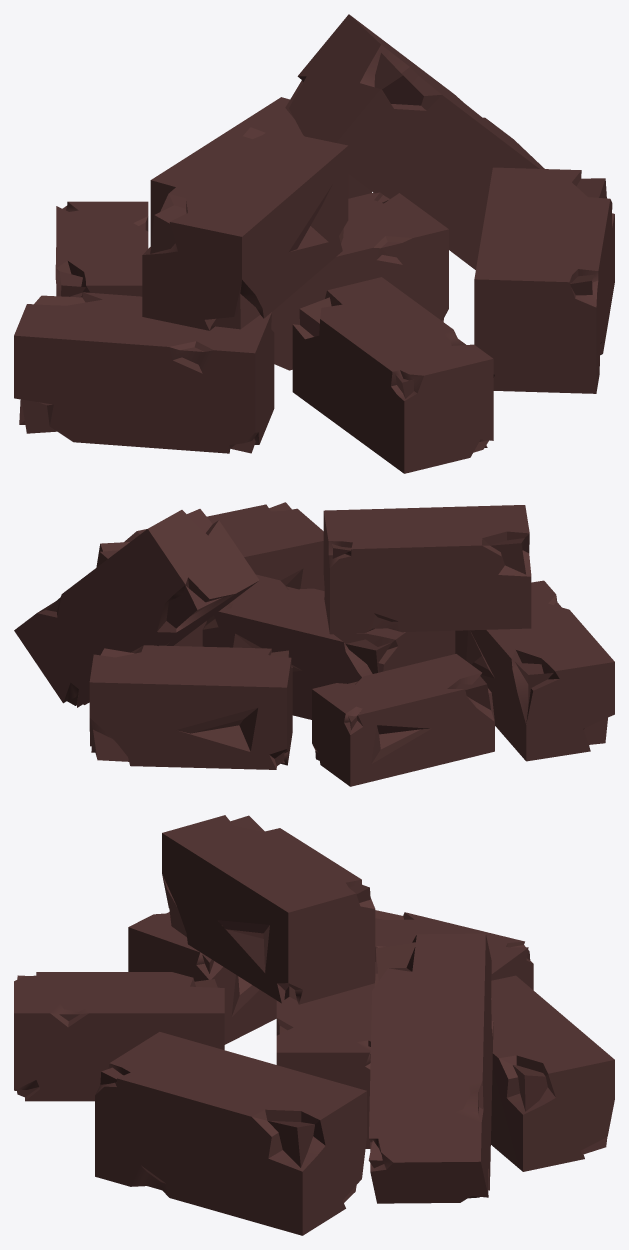
Rendered from 48_brick_pile2.fbx.
The picture shows the model from 3 angles, top to bottom: view 1: azimuth 30°, elevation 25°; view 2: azimuth 150°, elevation 25°; view 3: azimuth 270°, elevation 25°; orthographic projection. The views are drawn at different scales.
Visible parts, largest first — view 1: pCube72; view 2: pCube72; view 3: pCube72.
Part boxes in pixels (x1=…): pCube72: x1=14, y1=14, x2=614, y2=473; pCube72: x1=14, y1=502, x2=614, y2=786; pCube72: x1=14, y1=815, x2=614, y2=1235.
Bounding box in the file's own units: 1.19 × 0.4539 × 1.07.
